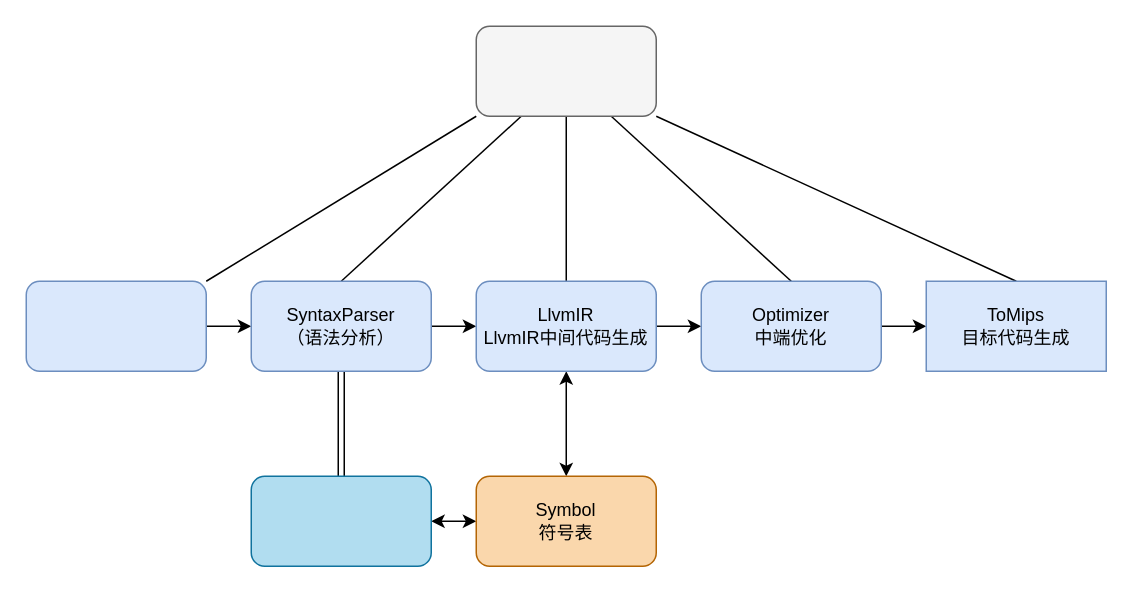
This 1133x593 diagram has some shape labels left out. The shapes that lost their labels are listed below. From the top down, each one's centre as x and y in pixels, then its label:
the point at 565,70: 编译器
the point at 115,325: TokenParser （词法分析）
the point at 340,520: 错误处理
